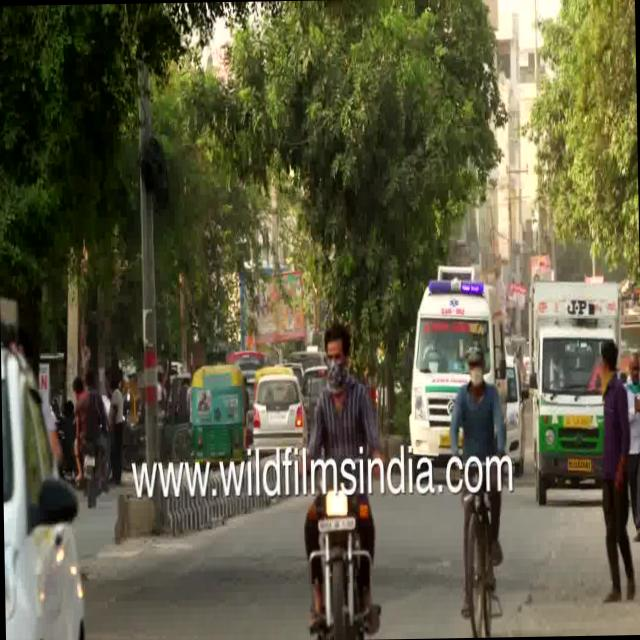ambulance: (397, 250, 517, 450)
